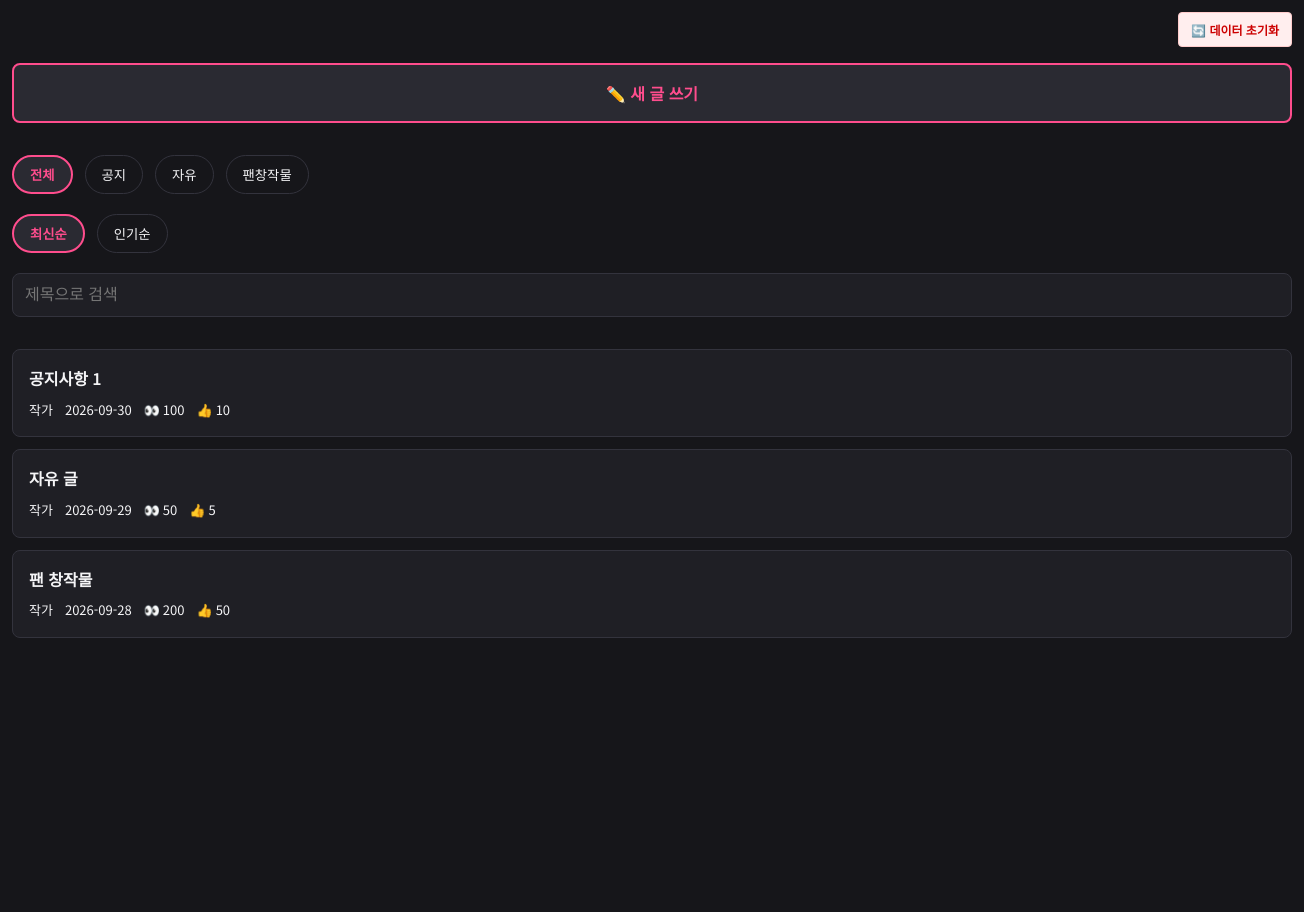
Scenario: PostExplorer › filters posts by tab
Click the button "자유" at (184, 174), box [155,155,214,194]
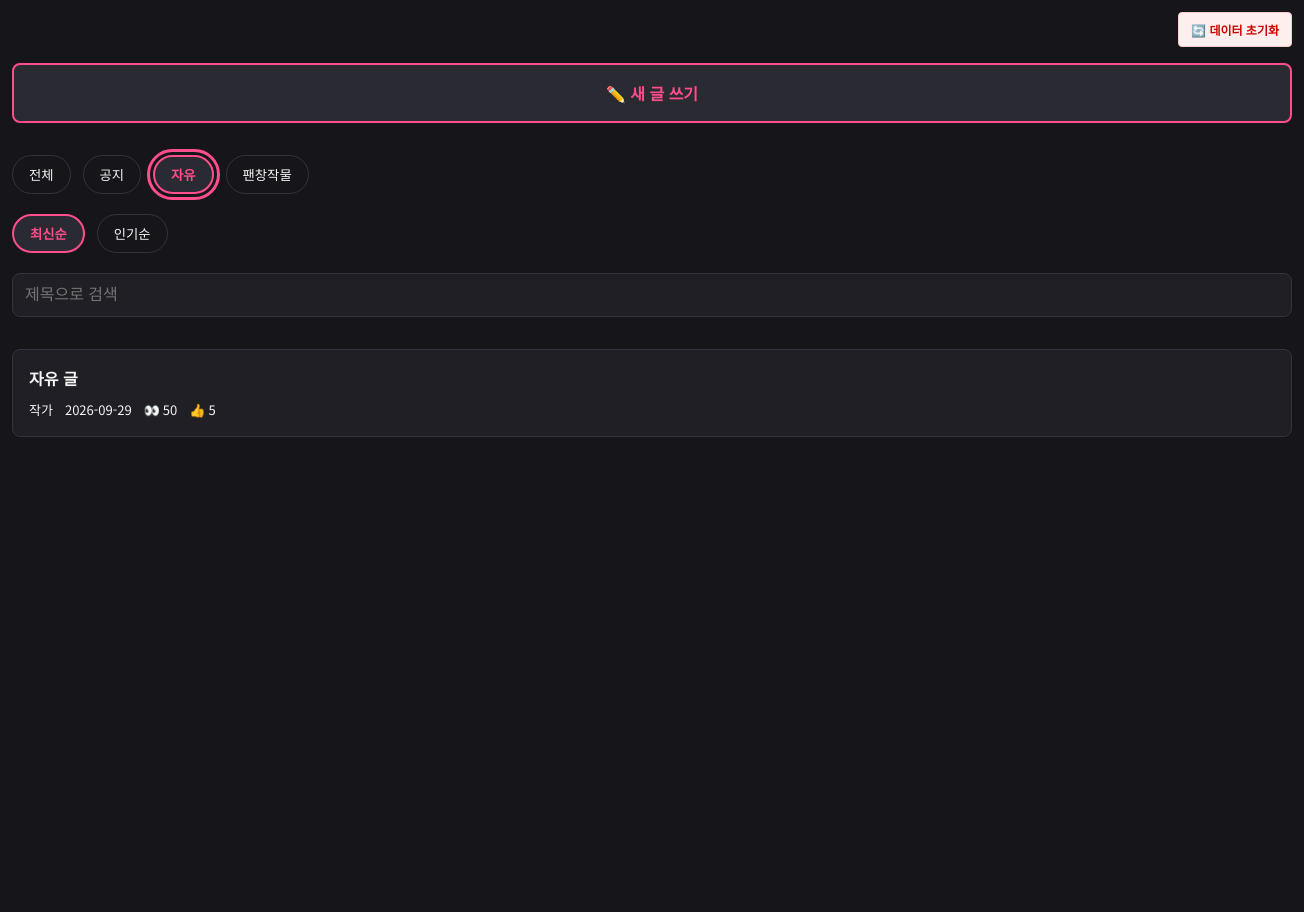
Expected: the text "자유 글" is shown, [29,366,78,390]
Expected: the text "공지사항 1" is gone
